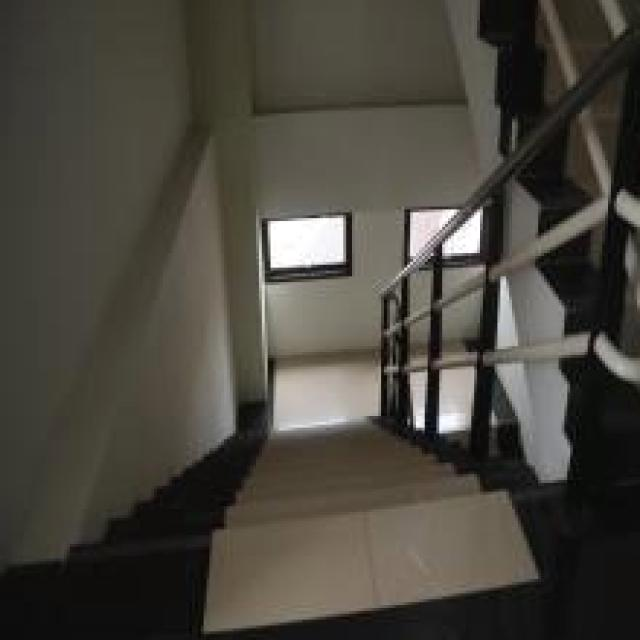downstair: (178, 408, 522, 640)
